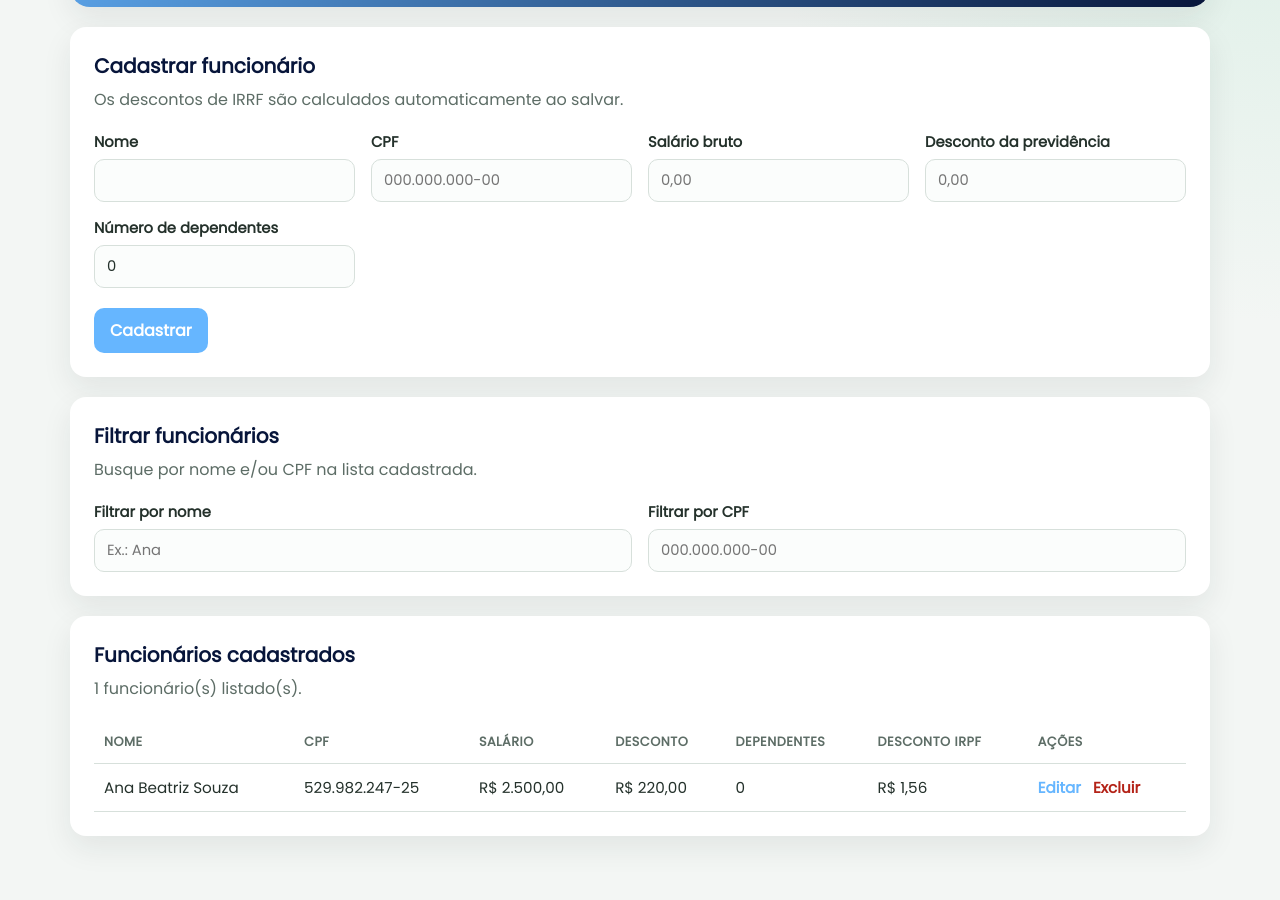
Scenario: gestão de funcionários › atualiza e exclui um funcionário cadastrado
The image size is (1280, 900).
(page scrolled)
Click the button "Editar". click: (1059, 788)
box: x1=1038 y1=776 x2=1081 y2=799
(page scrolled)
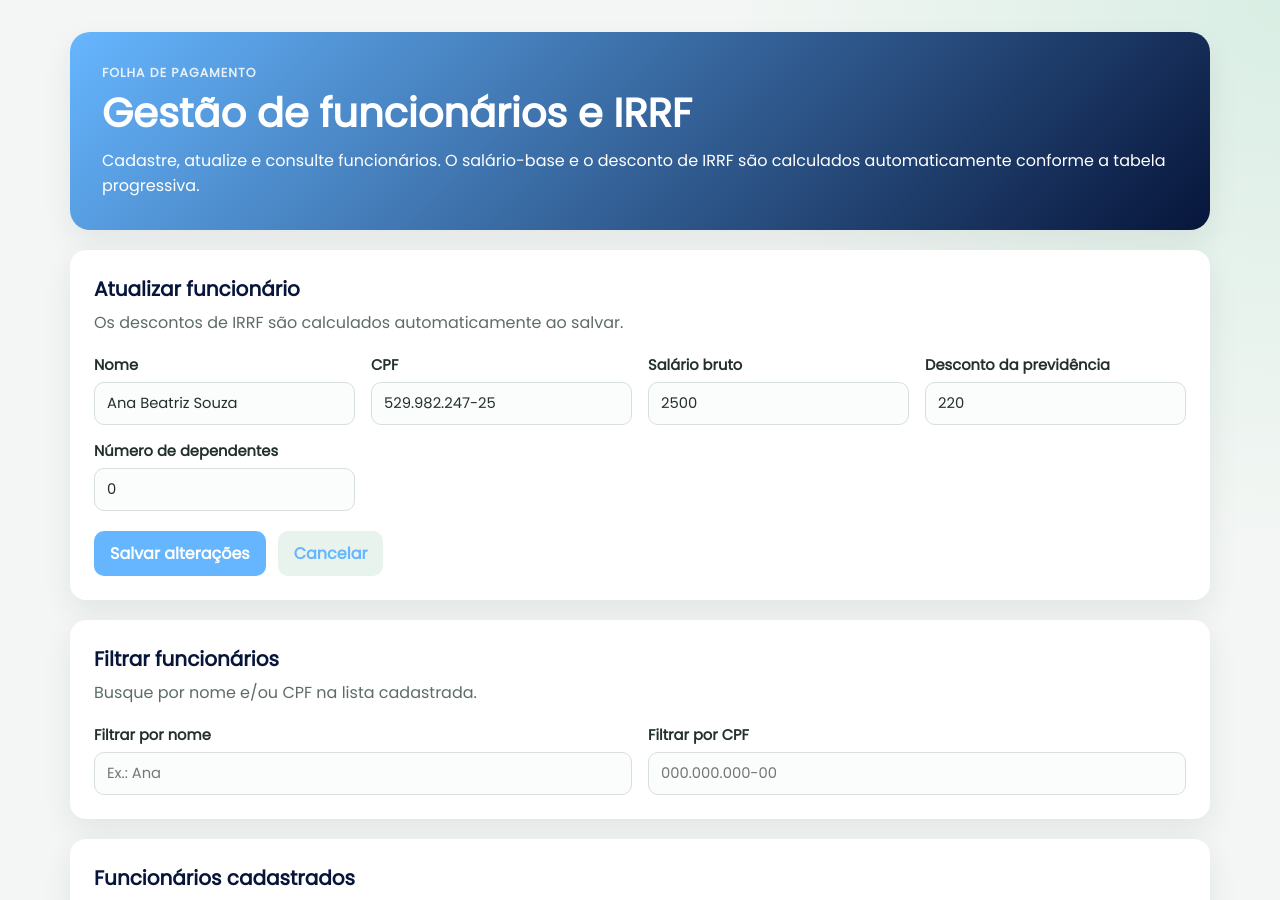
Replace the text in the field labelled "Nome" with "Ana Souza Atualizada". click: (224, 404)
box: x1=94 y1=382 x2=355 y2=425
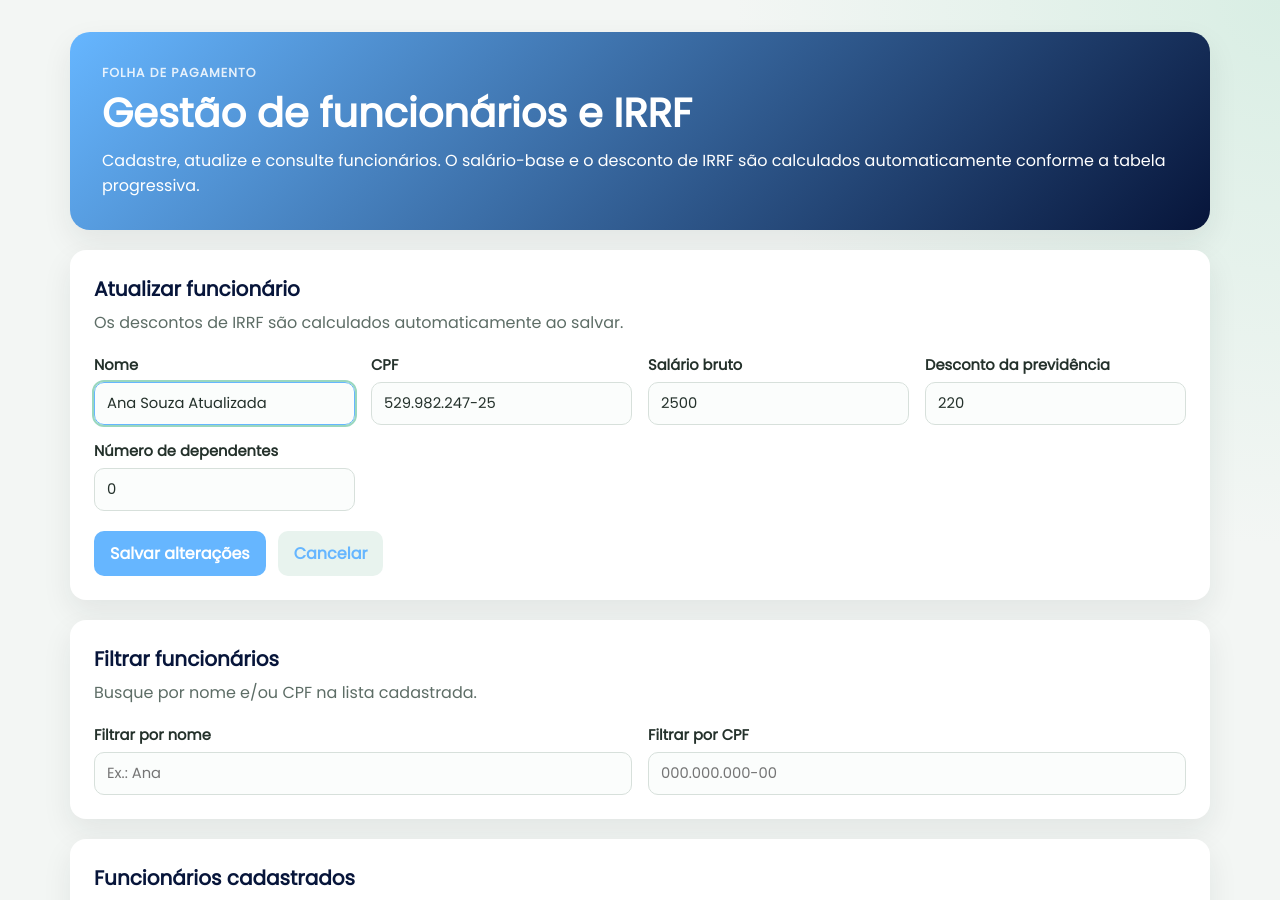
Click the button "Salvar alterações". click: (180, 554)
box: x1=94 y1=531 x2=266 y2=576
(page scrolled)
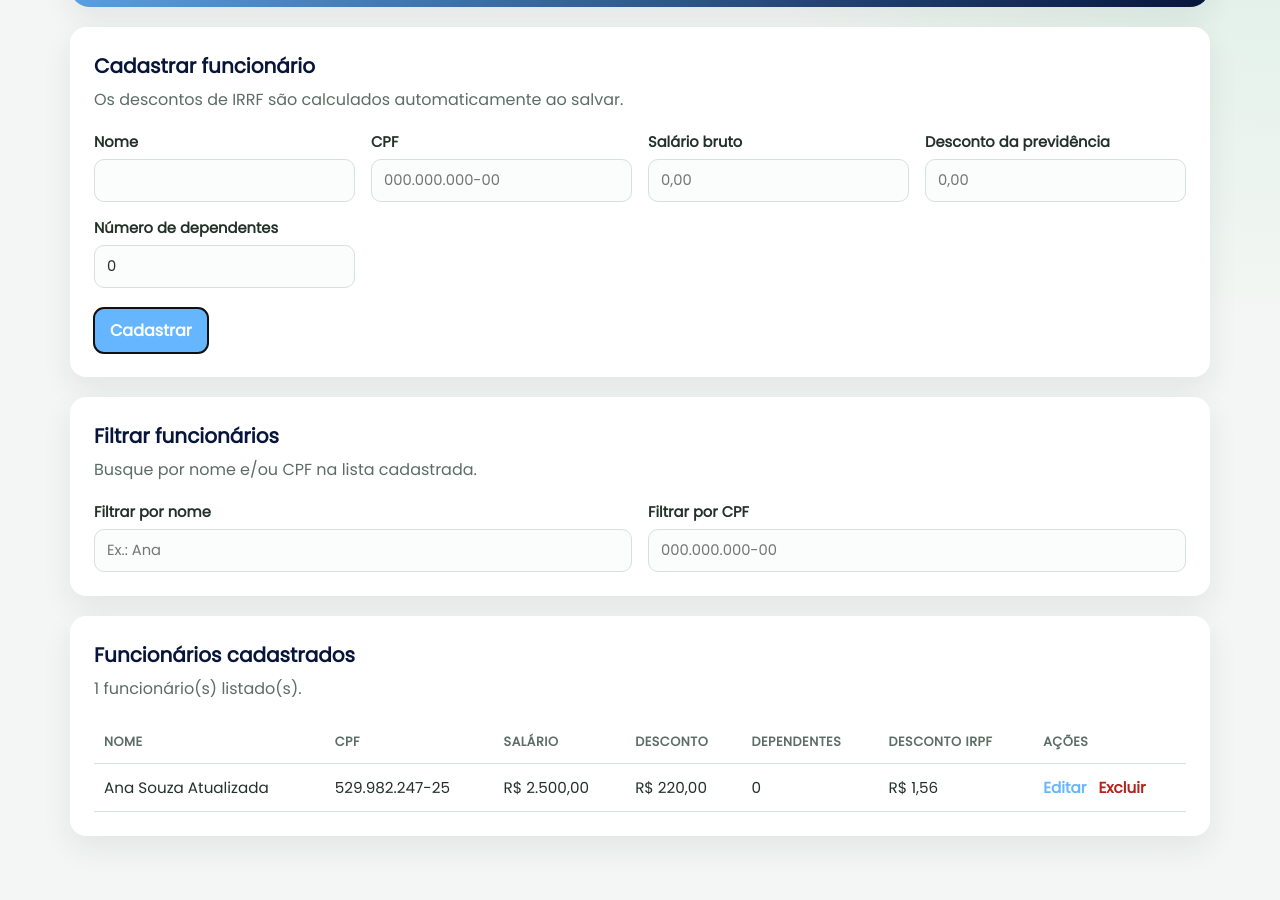
expect the text "Ana Souza Atualizada" is shown: met, box x1=94 y1=764 x2=325 y2=812
Click the button "Excluir". click: (1122, 788)
box: x1=1098 y1=776 x2=1146 y2=799
(page scrolled)
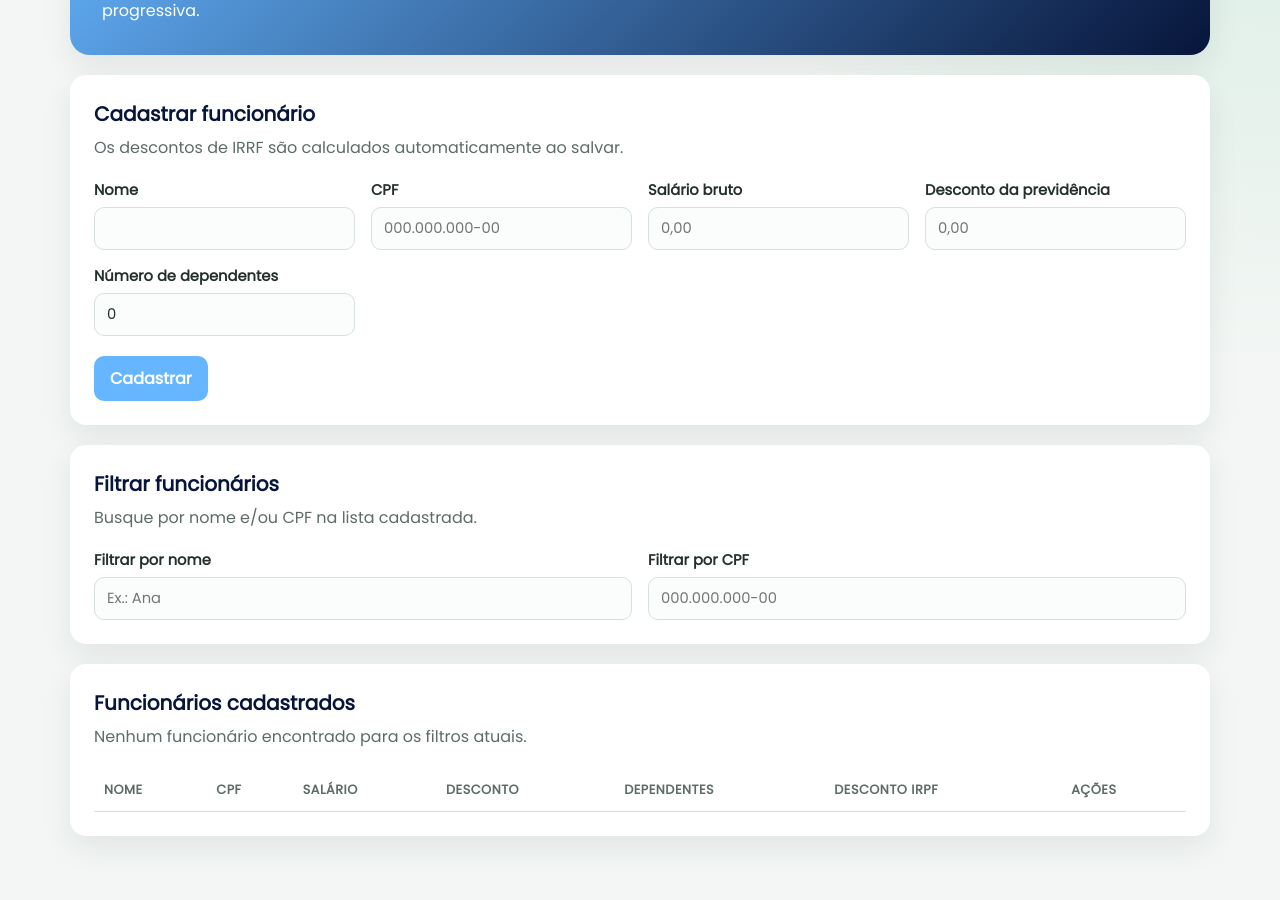
expect the text "Ana Souza Atualizada" is gone: met
